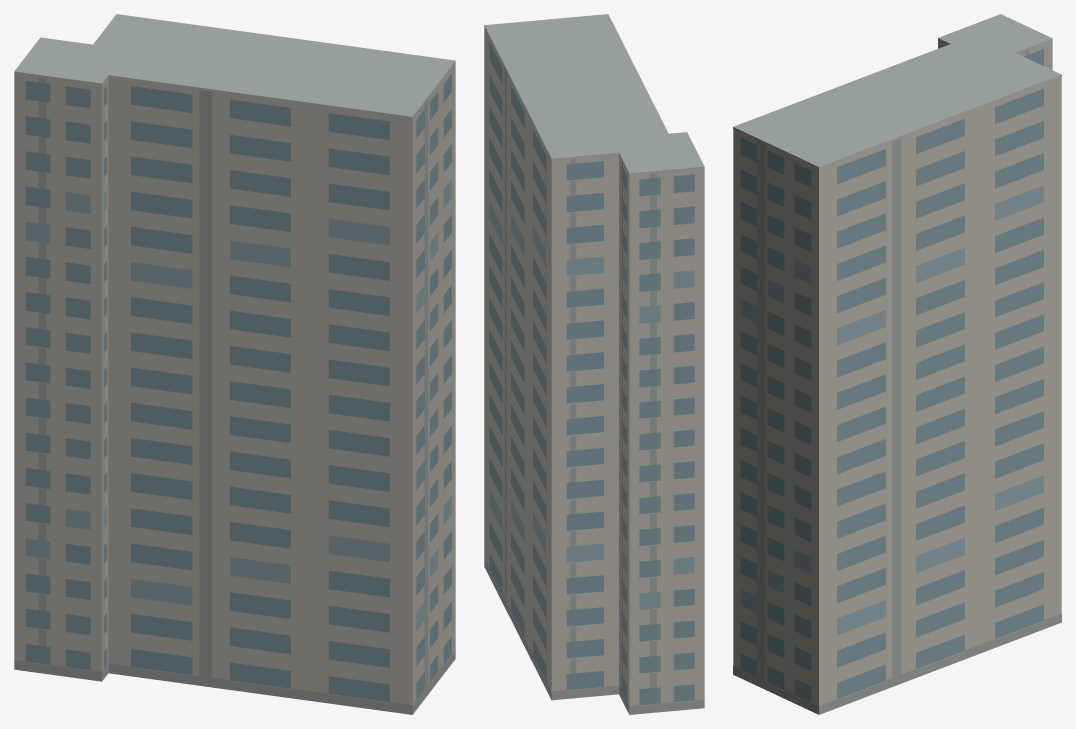
The model's file is residential-37d410c7-3072-463e-8f9e-cf1b5f053fd7.glb.
3 views of the same model, side by side, from view 1: azimuth 30°, elevation 25°; view 2: azimuth 150°, elevation 25°; view 3: azimuth 270°, elevation 25° (orthographic). The views are drawn at different scales.
Visible parts, largest first — view 1: residential-37d410c7-3072-463e-8f9e-cf1b5f053fd7.tmp; view 2: residential-37d410c7-3072-463e-8f9e-cf1b5f053fd7.tmp; view 3: residential-37d410c7-3072-463e-8f9e-cf1b5f053fd7.tmp.
Part boxes in pixels (x1,y1,x2,y2): residential-37d410c7-3072-463e-8f9e-cf1b5f053fd7.tmp: [14, 14, 455, 714]; residential-37d410c7-3072-463e-8f9e-cf1b5f053fd7.tmp: [484, 14, 704, 714]; residential-37d410c7-3072-463e-8f9e-cf1b5f053fd7.tmp: [733, 14, 1061, 714].
Bounding box in the file's own units: 34.75 × 58 × 31.53.
